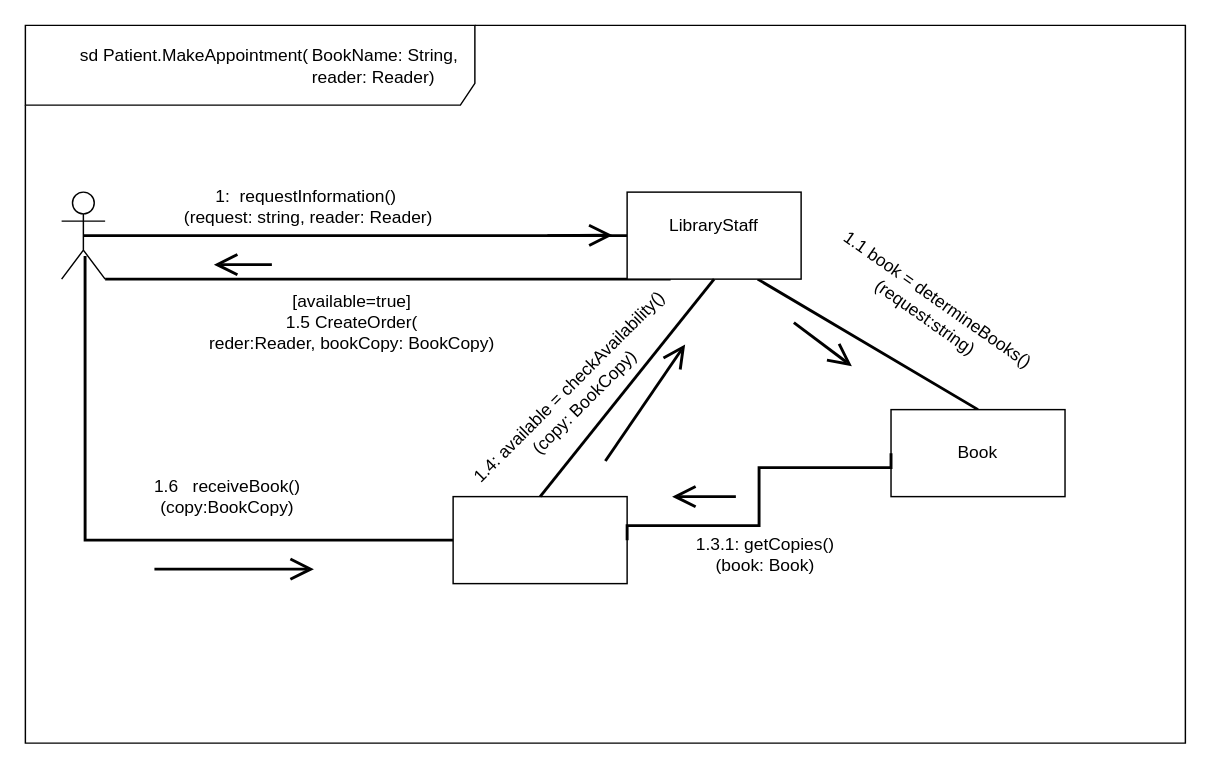
The diagram is 1211 pixels wide and 769 high, and some of its shapes have lost their labels. Here are the shapes that lost their labels. From the top down, the centre of each, then its label:
the point at 82,235: :Reader
the point at 539,539: BookCopy
